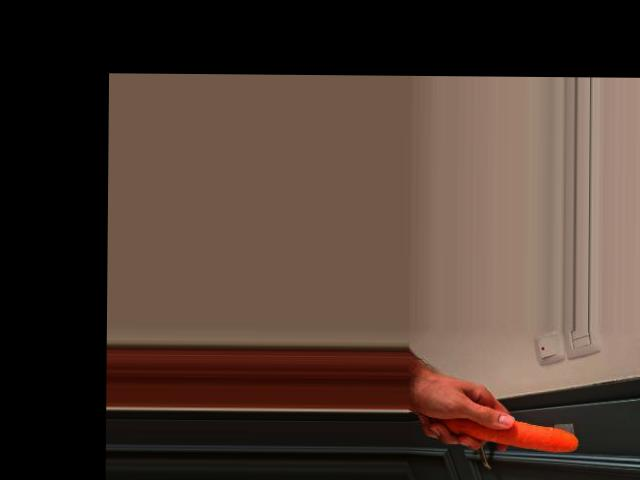carrot: (428, 411, 578, 451)
